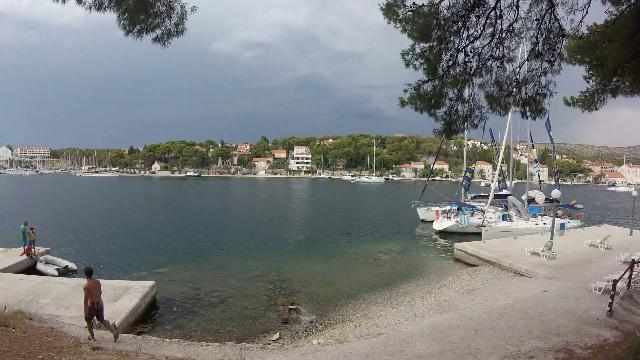Sailboat: (352, 172, 388, 186)
